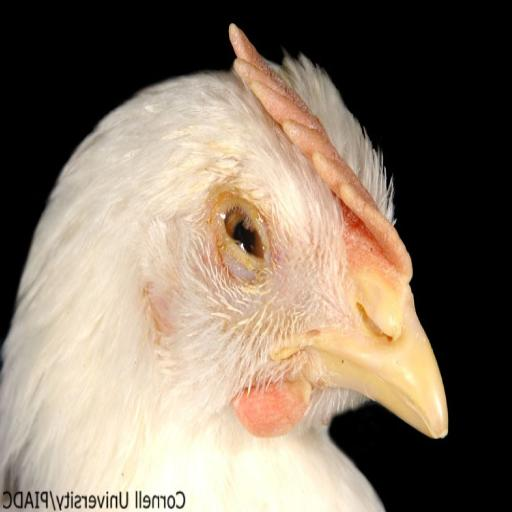disease: (198, 124, 284, 301)
